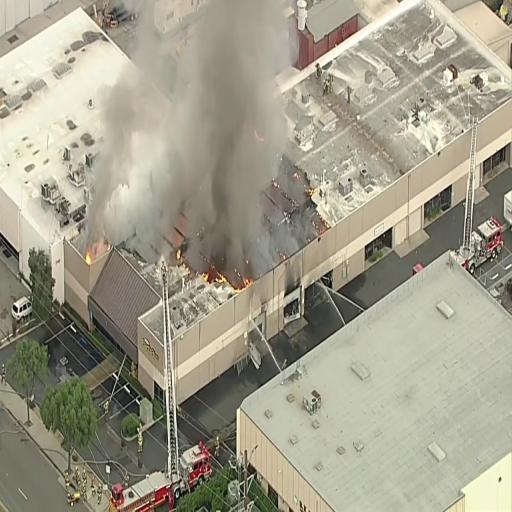smoke: (193, 0, 248, 191)
